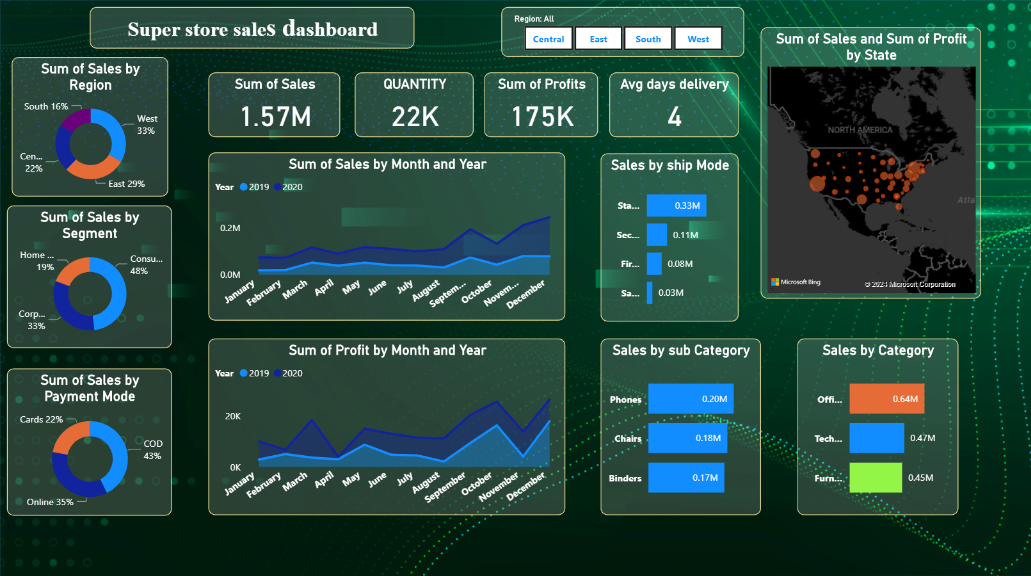

The dashboard page shown, as its layout file describes it:
{"tool":"powerbi","page":{"name":"Page 1","canvas":[1280,720],"ordinal":0},"visuals":[{"type":"clusteredBarChart","title":"Sales by Category","fields":{"Category":["SuperStore_Sales_Dataset.Category"],"Y":["Sum(SuperStore_Sales_Dataset.Sales)"]},"box":[1033.9,439.1,208.7,229.2],"z":0},{"type":"clusteredBarChart","title":"Sales by sub Category","fields":{"Category":["SuperStore_Sales_Dataset.Sub-Category"],"Y":["Sum(SuperStore_Sales_Dataset.Sales)"]},"box":[779.4,439.1,207.5,229.2],"z":1000},{"type":"clusteredBarChart","title":"Sales by ship Mode","fields":{"Category":["SuperStore_Sales_Dataset.Ship Mode"],"Y":["Sum(SuperStore_Sales_Dataset.Sales)"]},"box":[779.4,199.1,178.6,218.4],"z":2000},{"type":"stackedAreaChart","fields":{"Y":["Sum(SuperStore_Sales_Dataset.Sales)"],"Series":["SuperStore_Sales_Dataset.Order Date.Variation.Date Hierarchy.Year"],"Category":["SuperStore_Sales_Dataset.Order Date.Variation.Date Hierarchy.Month","SuperStore_Sales_Dataset.Order Date.Variation.Date Hierarchy.Day"]},"box":[270.2,197.9,463.3,218.4],"z":3000},{"type":"stackedAreaChart","fields":{"Category":["SuperStore_Sales_Dataset.Order Date.Variation.Date Hierarchy.Month","SuperStore_Sales_Dataset.Order Date.Variation.Date Hierarchy.Day"],"Series":["SuperStore_Sales_Dataset.Order Date.Variation.Date Hierarchy.Year"],"Y":["Sum(SuperStore_Sales_Dataset.Profit)"]},"box":[270.2,439.1,463.3,229.2],"z":4000},{"type":"map","fields":{"Category":["SuperStore_Sales_Dataset.State"],"Size":["Sum(SuperStore_Sales_Dataset.Sales)"]},"box":[986.9,35,285.9,352.3],"z":5000},{"type":"donutChart","fields":{"Category":["SuperStore_Sales_Dataset.Segment"],"Y":["Sum(SuperStore_Sales_Dataset.Sales)"]},"box":[8.4,266.6,213.5,184.6],"z":6000},{"type":"donutChart","fields":{"Category":["SuperStore_Sales_Dataset.Payment Mode"],"Y":["Sum(SuperStore_Sales_Dataset.Sales)"]},"box":[8.4,477.8,213.5,190.6],"z":7000},{"type":"slicer","fields":{"Values":["SuperStore_Sales_Dataset.Region"]},"box":[650.3,8.4,314.9,65.1],"z":8000},{"type":"textbox","box":[115.8,8.4,421,54.3],"z":9000},{"type":"card","title":"Sum of Sales ","fields":{"Values":["Sum(SuperStore_Sales_Dataset.Sales)"]},"box":[270.2,94.1,171.3,84.5],"z":10000},{"type":"card","title":"QUANTITY","fields":{"Values":["Sum(SuperStore_Sales_Dataset.Quantity)"]},"box":[459.7,94.1,154.4,84.5],"z":11000},{"type":"card","title":"Sum of Profits ","fields":{"Values":["Sum(SuperStore_Sales_Dataset.Profit)"]},"box":[627.3,94.1,148.4,84.5],"z":12000},{"type":"card","title":"Avg days  delivery ","fields":{"Values":["Avg(SuperStore_Sales_Dataset.Avg-Delivery)"]},"box":[790.2,94.1,167.7,84.5],"z":13000},{"type":"donutChart","fields":{"Category":["SuperStore_Sales_Dataset.Region"],"Y":["Sum(SuperStore_Sales_Dataset.Sales)"]},"box":[14.5,73.6,202.7,181],"z":14000}]}

Visuals, with their boxes in screenshot pixels (x1, y1, x2, y2), scaled from the page's 1280x720 canvas onto the 1031x576 screenshot:
"Sales by Category" clusteredBarChart: (x1=833, y1=351, x2=1001, y2=535)
"Sales by sub Category" clusteredBarChart: (x1=628, y1=351, x2=795, y2=535)
"Sales by ship Mode" clusteredBarChart: (x1=628, y1=159, x2=772, y2=334)
stackedAreaChart - Sum(SuperStore_Sales_Dataset.Sales) x SuperStore_Sales_Dataset.Order Date.Variation.Date Hierarchy.Year: (x1=218, y1=158, x2=591, y2=333)
stackedAreaChart - SuperStore_Sales_Dataset.Order Date.Variation.Date Hierarchy.Month x SuperStore_Sales_Dataset.Order Date.Variation.Date Hierarchy.Day: (x1=218, y1=351, x2=591, y2=535)
map - SuperStore_Sales_Dataset.State x Sum(SuperStore_Sales_Dataset.Sales): (x1=795, y1=28, x2=1025, y2=310)
donutChart - SuperStore_Sales_Dataset.Segment x Sum(SuperStore_Sales_Dataset.Sales): (x1=7, y1=213, x2=179, y2=361)
donutChart - SuperStore_Sales_Dataset.Payment Mode x Sum(SuperStore_Sales_Dataset.Sales): (x1=7, y1=382, x2=179, y2=535)
slicer - SuperStore_Sales_Dataset.Region: (x1=524, y1=7, x2=777, y2=59)
textbox: (x1=93, y1=7, x2=432, y2=50)
"Sum of Sales " card: (x1=218, y1=75, x2=356, y2=143)
"QUANTITY" card: (x1=370, y1=75, x2=495, y2=143)
"Sum of Profits " card: (x1=505, y1=75, x2=625, y2=143)
"Avg days  delivery " card: (x1=636, y1=75, x2=772, y2=143)
donutChart - SuperStore_Sales_Dataset.Region x Sum(SuperStore_Sales_Dataset.Sales): (x1=12, y1=59, x2=175, y2=204)
